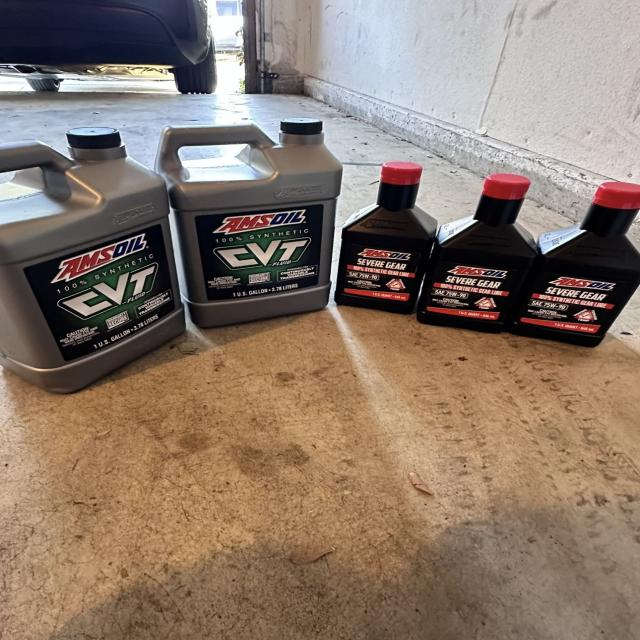-oil-: (539, 185, 634, 346), (442, 178, 528, 334), (344, 158, 426, 314)
5: (0, 137, 172, 389), (186, 117, 339, 336)
